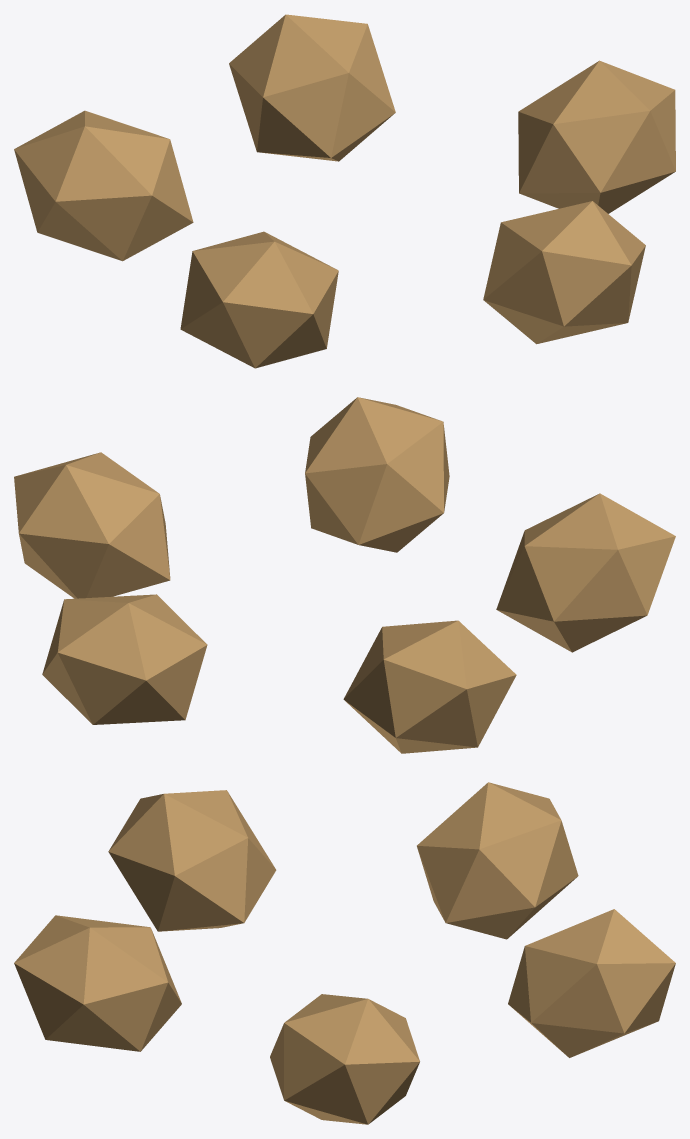
The model's file is Earth.fbx.
The picture shows the model from 3 angles, top to bottom: view 1: azimuth 30°, elevation 25°; view 2: azimuth 150°, elevation 25°; view 3: azimuth 270°, elevation 25°; orthographic projection. The views are drawn at different scales.
Parts seen in each view (by area): view 1: Earth; view 2: Earth; view 3: Earth.
Boxes of the visible parts, box(x1,y1,x2,y2) form: Earth: box(14, 14, 675, 368); Earth: box(14, 397, 675, 753); Earth: box(14, 782, 675, 1124).
Bounding box in the file's own units: 51.57 × 12.04 × 53.54.
